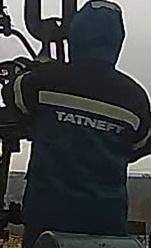vest: (29, 64, 126, 248)
